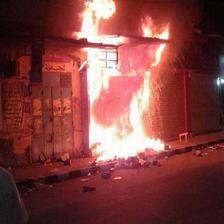fire: (72, 6, 173, 163)
